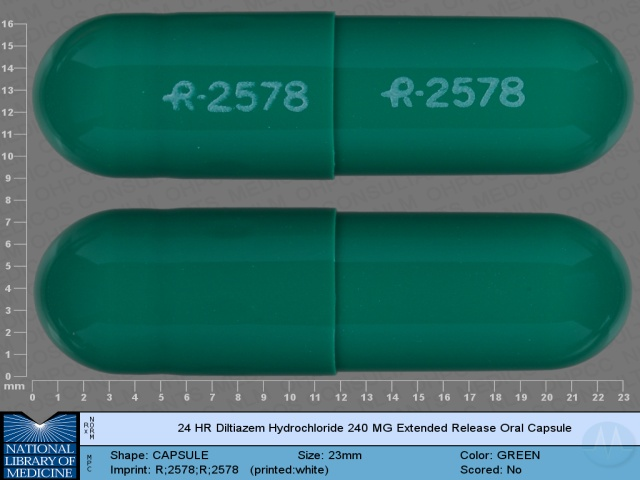capsule: (30, 6, 636, 186), (32, 203, 634, 378)
